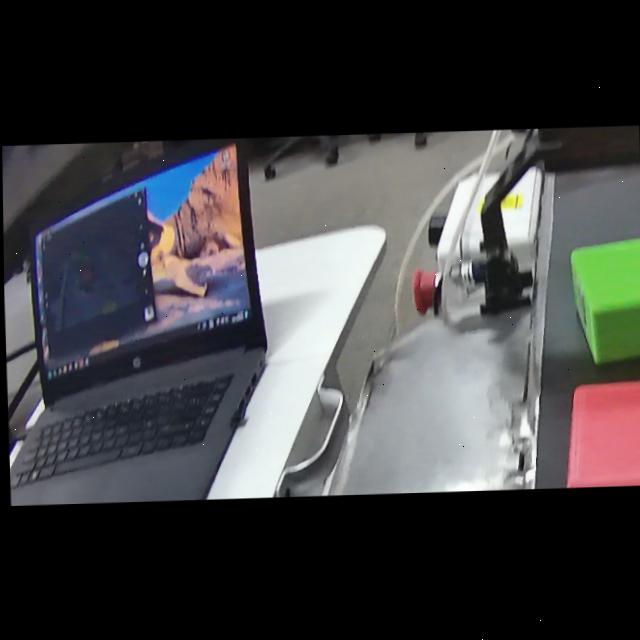greenBox: (566, 233, 640, 369)
redBox: (559, 378, 640, 489)
